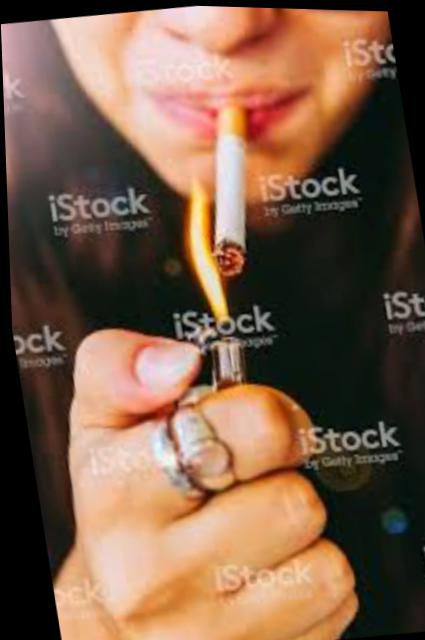fire: (161, 163, 257, 333)
